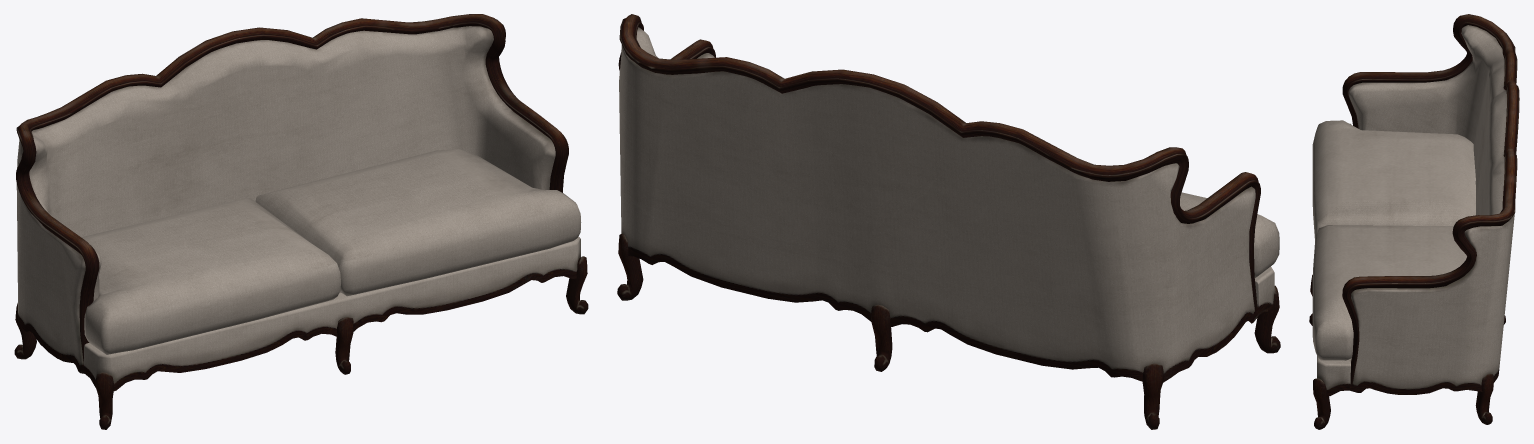
3 views of the same model, side by side, from view 1: azimuth 30°, elevation 25°; view 2: azimuth 150°, elevation 25°; view 3: azimuth 270°, elevation 25° (orthographic). The views are drawn at different scales.
Parts seen in each view (by area): view 1: sofa_3; view 2: sofa_3; view 3: sofa_3.
Boxes of the visible parts, left/top/right/bottom form: sofa_3: left=14, top=14, right=588, bottom=429; sofa_3: left=617, top=14, right=1280, bottom=429; sofa_3: left=1309, top=14, right=1519, bottom=429.
Bounding box in the file's own units: 1.57 × 0.7965 × 0.658.
Materials: 1 (1 with a texture image).
